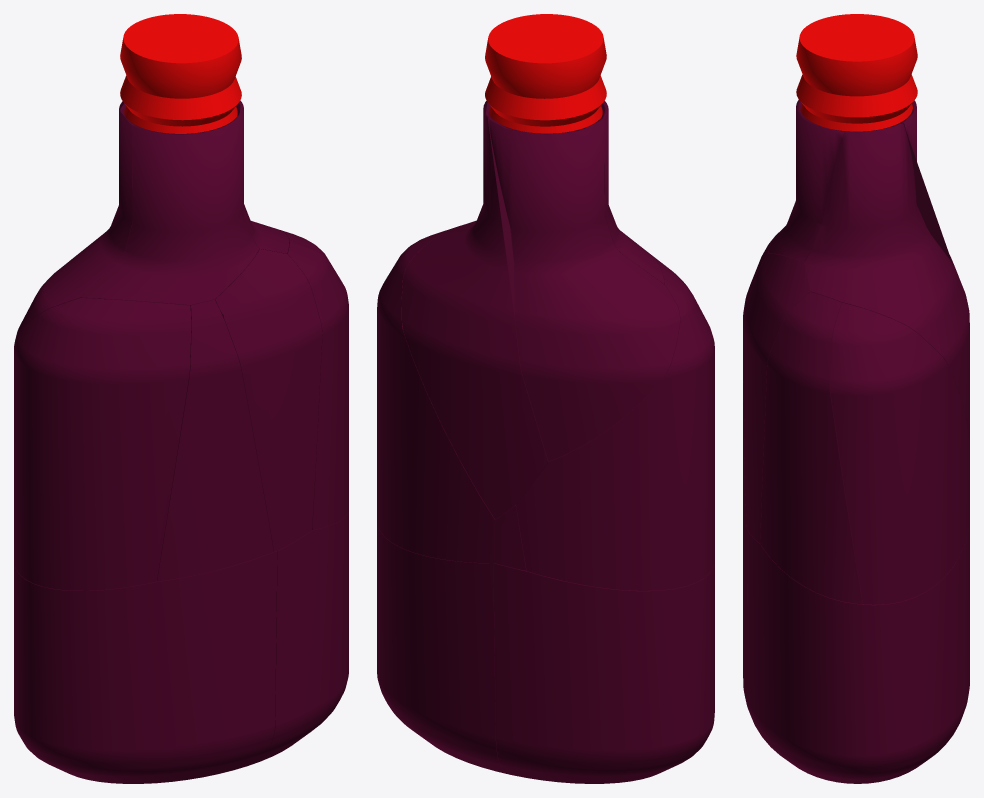
File: Botella_Ron_Rota.fbx
The picture shows the model from 3 angles, left to right: view 1: azimuth 30°, elevation 25°; view 2: azimuth 150°, elevation 25°; view 3: azimuth 270°, elevation 25°; orthographic projection.
Visible parts, largest first — view 1: Botella4.Rota_cell.006, Botella4.Rota_cell, Botella4.Rota_cell.005, Botella4.Rota_cell.007, Botella4.Rota_cell.002, Botella4.Rota_cell.008, Tapon4.001, Botella4.Rota_cell.003, Botella4.Rota_cell.009, Botella4.Rota_cell.001; view 2: Botella4.Rota_cell.006, Botella4.Rota_cell.009, Botella4.Rota_cell, Botella4.Rota_cell.001, Botella4.Rota_cell.008, Botella4.Rota_cell.004, Tapon4.001, Botella4.Rota_cell.005, Botella4.Rota_cell.010; view 3: Botella4.Rota_cell.008, Botella4.Rota_cell.004, Botella4.Rota_cell.001, Botella4.Rota_cell.003, Tapon4.001, Botella4.Rota_cell.007, Botella4.Rota_cell.005, Botella4.Rota_cell.006, Botella4.Rota_cell.002, Botella4.Rota_cell.009.
Part boxes in pixels (x1,y1,x2,y2): Botella4.Rota_cell.006: (14, 551, 277, 783); Botella4.Rota_cell: (14, 298, 191, 590); Botella4.Rota_cell.005: (81, 101, 259, 304); Botella4.Rota_cell.007: (214, 249, 322, 551); Botella4.Rota_cell.002: (157, 299, 273, 581); Botella4.Rota_cell.008: (255, 512, 348, 763); Tapon4.001: (120, 14, 241, 133); Botella4.Rota_cell.003: (287, 240, 348, 529); Botella4.Rota_cell.009: (16, 101, 134, 336); Botella4.Rota_cell.001: (110, 100, 289, 305); Botella4.Rota_cell.006: (493, 557, 714, 783); Botella4.Rota_cell.009: (488, 117, 679, 461); Botella4.Rota_cell: (516, 252, 714, 590); Botella4.Rota_cell.001: (401, 101, 548, 518); Botella4.Rota_cell.008: (377, 522, 504, 773); Botella4.Rota_cell.004: (377, 229, 495, 563); Tapon4.001: (485, 14, 606, 133); Botella4.Rota_cell.005: (601, 100, 664, 284); Botella4.Rota_cell.010: (494, 505, 526, 570); Botella4.Rota_cell.008: (747, 518, 969, 783); Botella4.Rota_cell.004: (830, 302, 969, 604); Botella4.Rota_cell.001: (804, 123, 969, 449); Botella4.Rota_cell.003: (760, 292, 862, 603); Tapon4.001: (796, 14, 917, 131); Botella4.Rota_cell.007: (743, 253, 810, 543); Botella4.Rota_cell.005: (768, 99, 846, 262); Botella4.Rota_cell.006: (743, 510, 748, 709); Botella4.Rota_cell.002: (743, 244, 770, 526); Botella4.Rota_cell.009: (899, 100, 964, 291).
Size of the model in its own units: 6.33 by 9.99 by 21.22.
